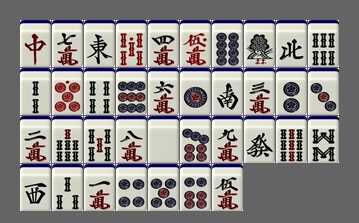0m: (180, 20, 211, 67)
0p: (52, 68, 83, 115)
0s: (116, 20, 147, 67)
1m: (84, 164, 115, 211)
1p: (180, 68, 211, 115)
1s: (244, 20, 275, 67)
1z: (84, 20, 115, 67)
2m: (20, 116, 51, 163)
2p: (276, 68, 307, 115)
2s: (20, 68, 51, 115)
2z: (212, 68, 243, 115)
3m: (244, 68, 275, 115)
3p: (308, 68, 339, 115)
3s: (52, 164, 83, 211)
3z: (20, 164, 51, 211)
4m: (148, 20, 179, 67)
4p: (116, 164, 147, 211)
4s: (84, 68, 115, 115)
4z: (276, 20, 307, 67)
5m: (212, 164, 243, 211)
5p: (148, 164, 179, 211)
5s: (84, 116, 115, 163)
5z: (148, 116, 179, 163)
6m: (148, 68, 179, 115)
6p: (180, 164, 211, 211)
6s: (308, 20, 339, 67)
6z: (244, 116, 275, 163)
7m: (52, 20, 83, 67)
7p: (180, 116, 211, 163)
7s: (52, 116, 83, 163)
7z: (20, 20, 51, 67)
8m: (116, 116, 147, 163)
8p: (212, 20, 243, 67)
8s: (308, 116, 339, 163)
9m: (212, 116, 243, 163)
9p: (116, 68, 147, 115)
9s: (276, 116, 307, 163)
